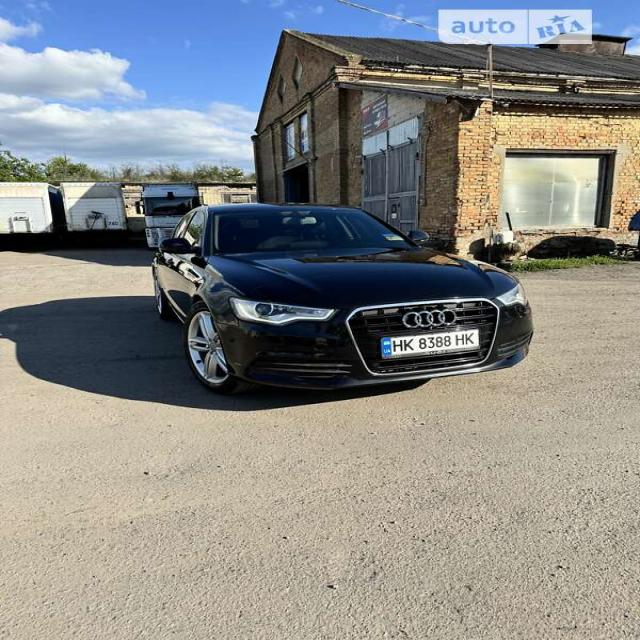plate: (376, 324, 500, 361)
